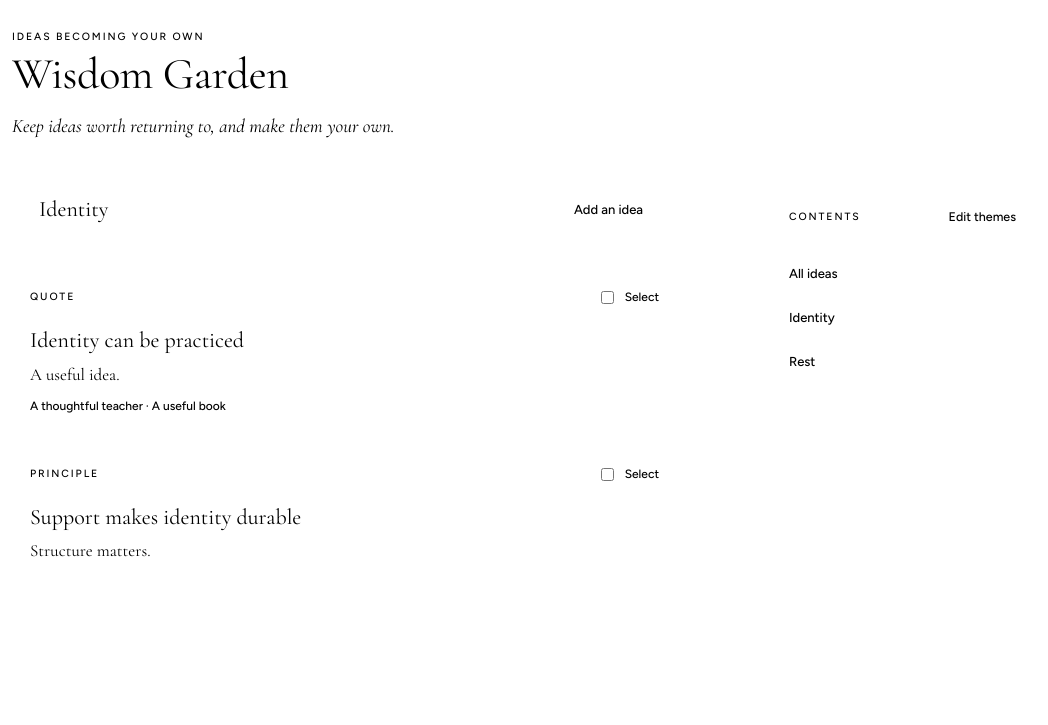
Test: keeps unthemed and imported-theme notes reachable through All ideas
Expected: the text "A thought without a configured theme" is not shown
Click the button "All ideas". click: (906, 273)
box: [777,251,1036,295]
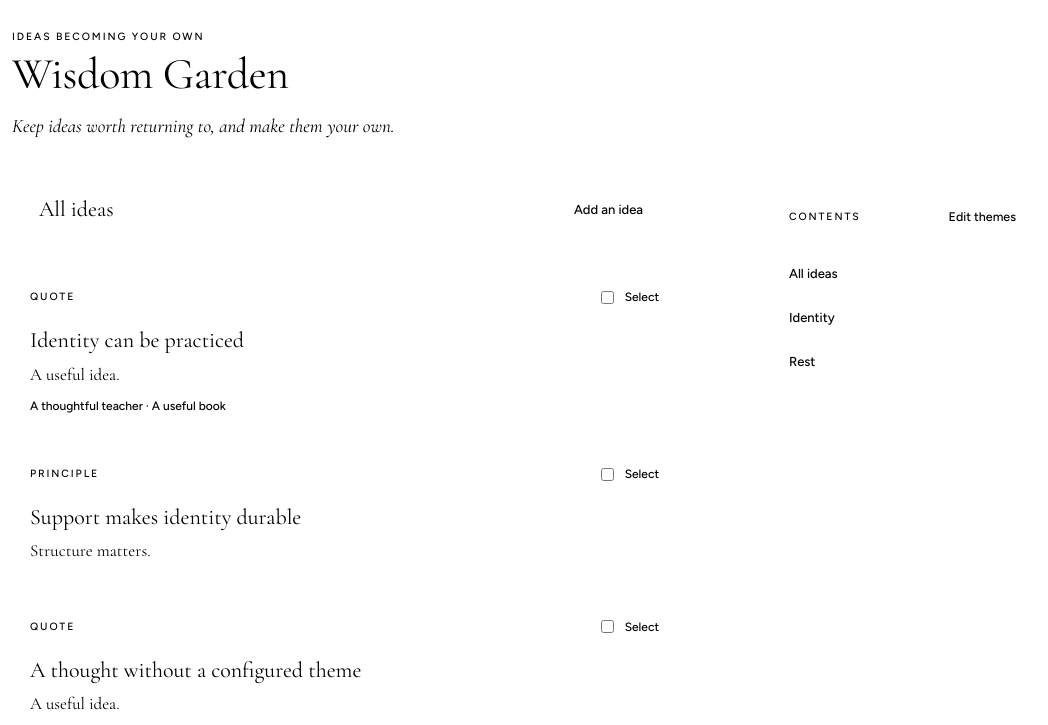
Now the text "A thought without a configured theme" is shown, box [30,657,361,683]
